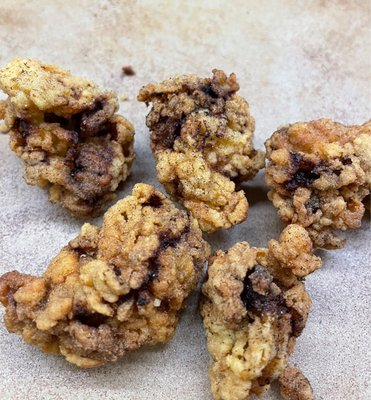sushi: (138, 69, 266, 235)
